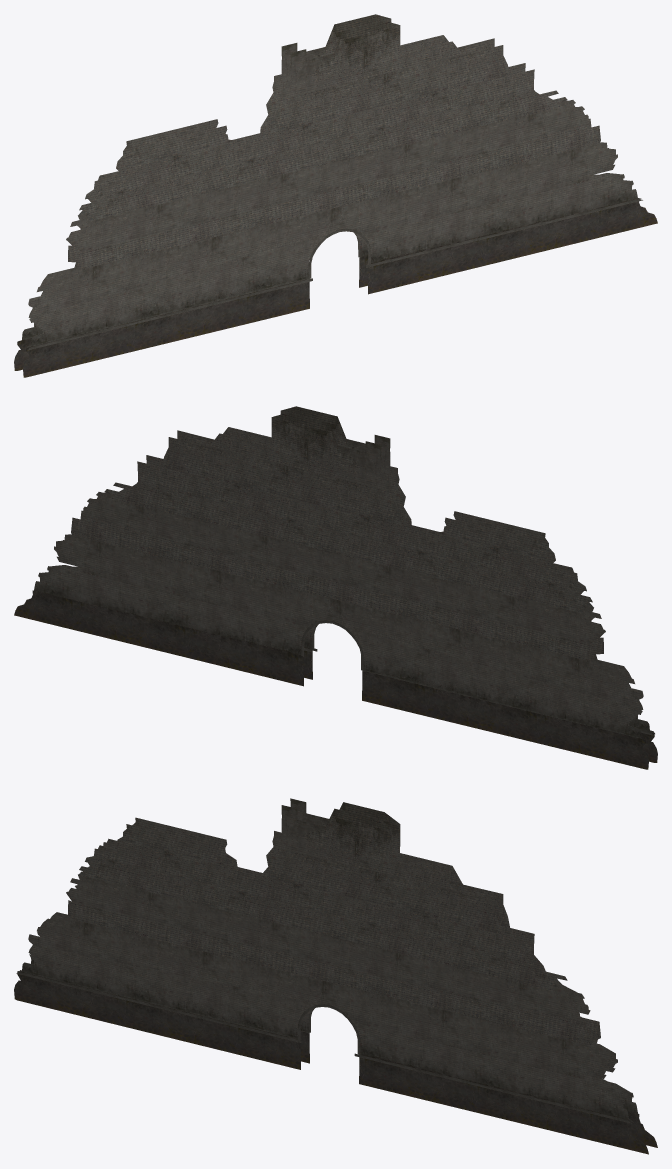
The model's file is b_zx_poqiang01_01_lod1.FBX.
The picture shows the model from 3 angles, top to bottom: view 1: azimuth 30°, elevation 25°; view 2: azimuth 150°, elevation 25°; view 3: azimuth 330°, elevation 25°; orthographic projection.
Visible parts, largest first — view 1: b_zx_poqiang01_01_lod1; view 2: b_zx_poqiang01_01_lod1; view 3: b_zx_poqiang01_01_lod1.
Part boxes in pixels (x1,y1,x2,y2): b_zx_poqiang01_01_lod1: (14,14,657,377); b_zx_poqiang01_01_lod1: (14,406,657,769); b_zx_poqiang01_01_lod1: (14,798,657,1154).
Size of the model in its own units: 78.67 by 31.92 by 2.25.
